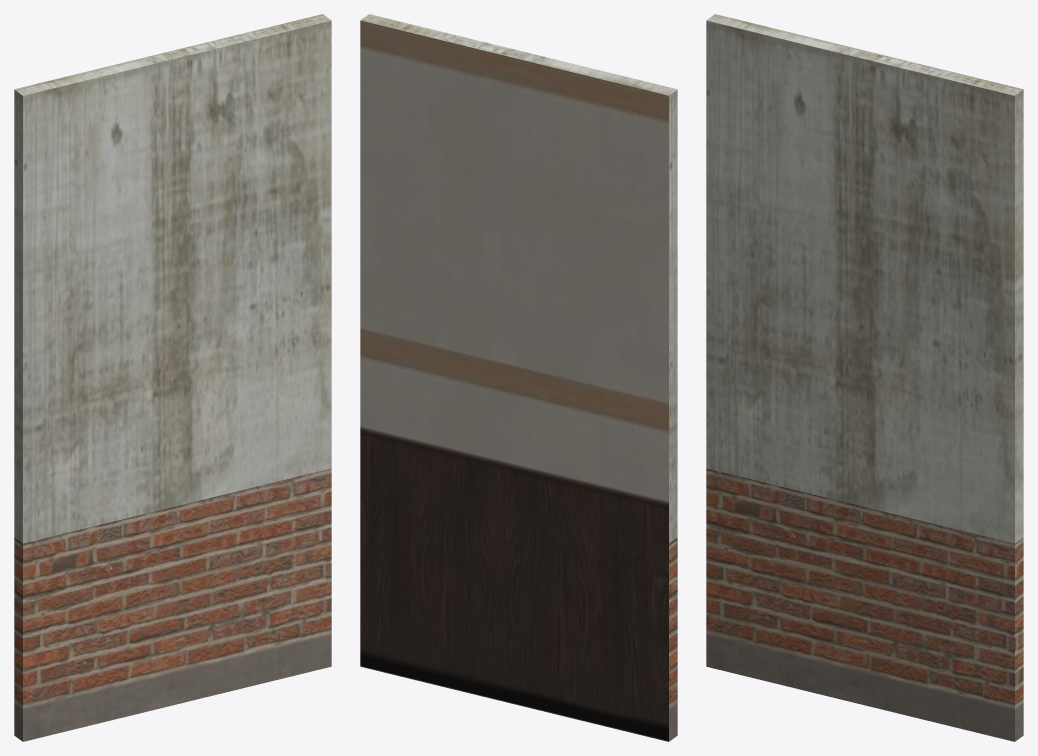
The model's file is WallOutPlusIn.glb.
The picture shows the model from 3 angles, left to right: view 1: azimuth 30°, elevation 25°; view 2: azimuth 150°, elevation 25°; view 3: azimuth 330°, elevation 25°; orthographic projection.
Parts seen in each view (by area): view 1: Plane; view 2: Plane; view 3: Plane.
Boxes of the visible parts, box(x1,y1,x2,y2) form: Plane: box(14, 14, 331, 741); Plane: box(360, 14, 677, 741); Plane: box(706, 14, 1023, 741).
Bounding box in the file's own units: 2 × 4 × 0.1.
3 materials, 3 textured.
